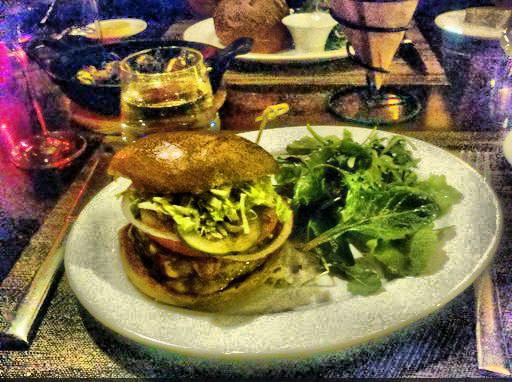burger: (120, 115, 280, 310)
